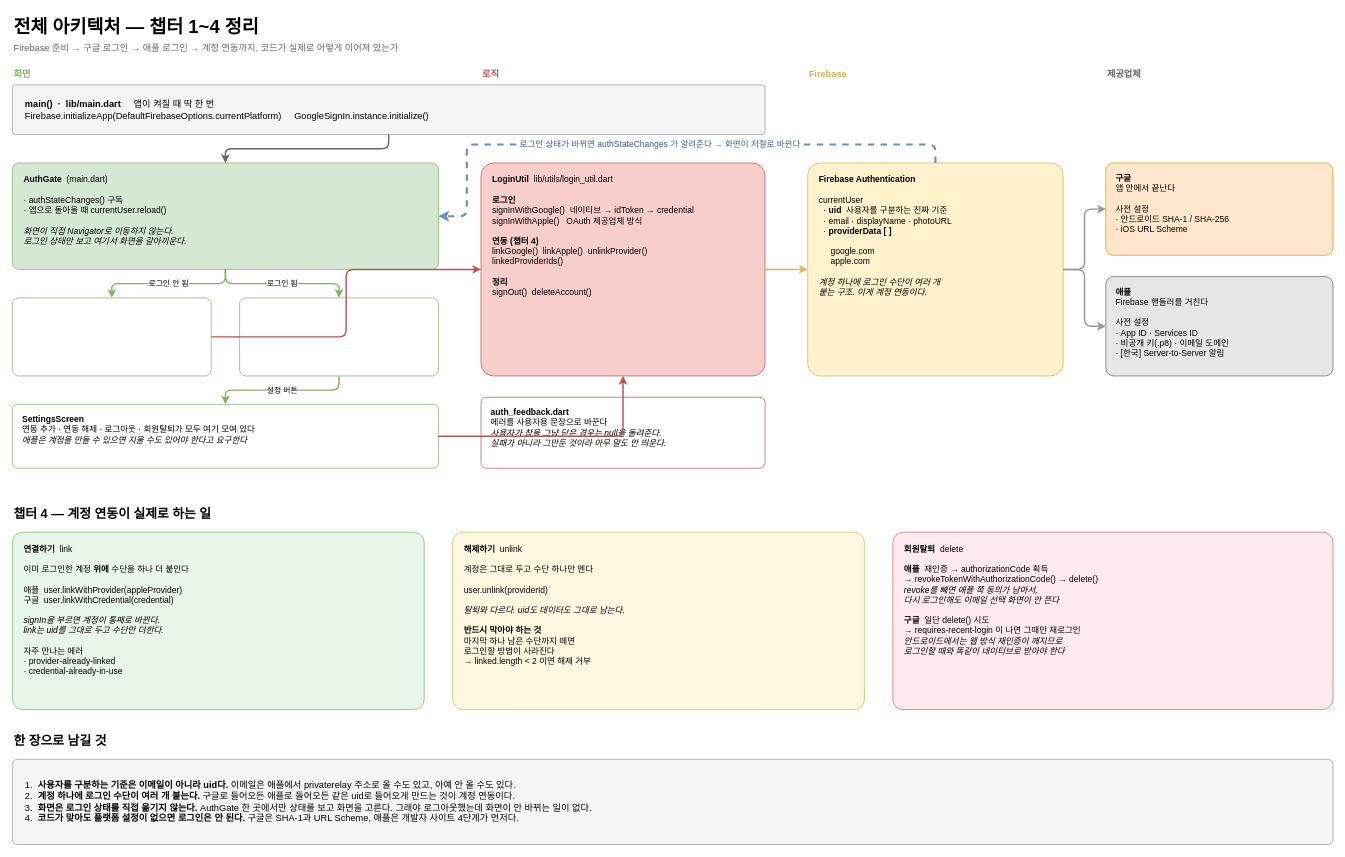
Some shapes in this 1345 by 857 pixel diagram are drawn without their labels. Here are the shapes that lost their labels. From the top down, the box of each, then its label:
(12, 297, 211, 376): LoginScreen 로그인 전 구글 / 애플 버튼
(239, 297, 438, 376): HomeScreen 로그인 후 프로필 · 설정 버튼
